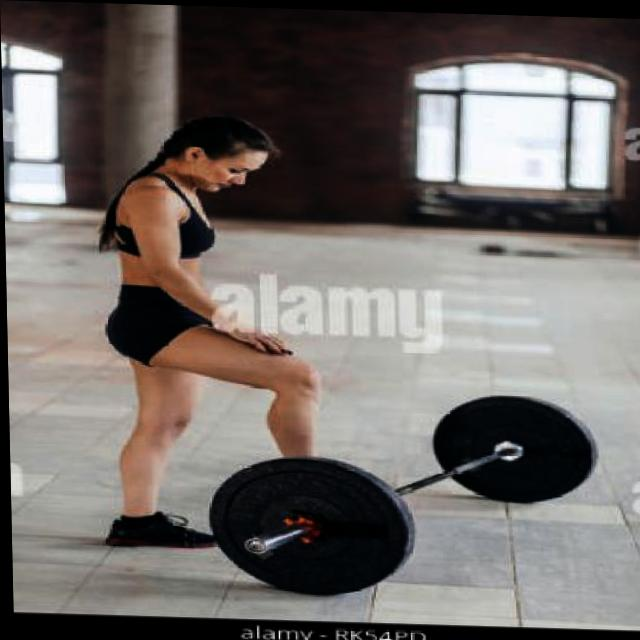barbell: (204, 447, 422, 602)
